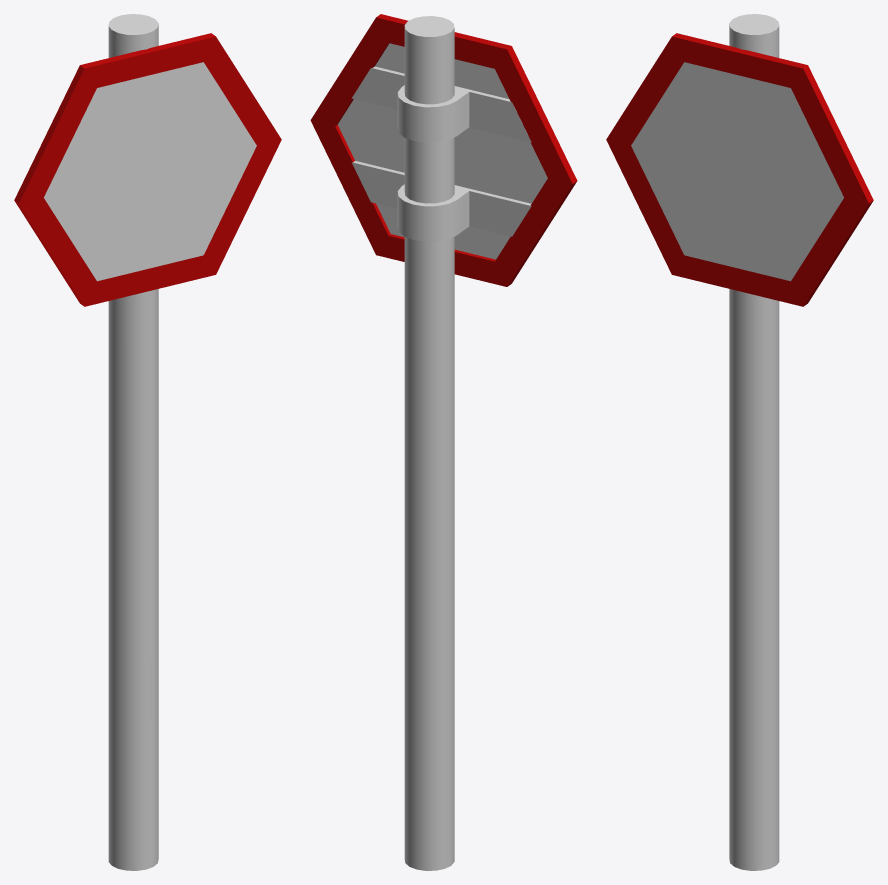
File: Señal hexagonal.fbx
3 views of the same model, side by side, from view 1: azimuth 30°, elevation 25°; view 2: azimuth 150°, elevation 25°; view 3: azimuth 330°, elevation 25° (orthographic).
Visible parts, largest first — view 1: Señal hex completa; view 2: Señal hex completa; view 3: Señal hex completa.
Part boxes in pixels (x1,y1,x2,y2): Señal hex completa: [14, 14, 281, 870]; Señal hex completa: [310, 14, 577, 870]; Señal hex completa: [606, 14, 873, 870].
Bounding box in the file's own units: 67.68 × 206 × 14.67.
